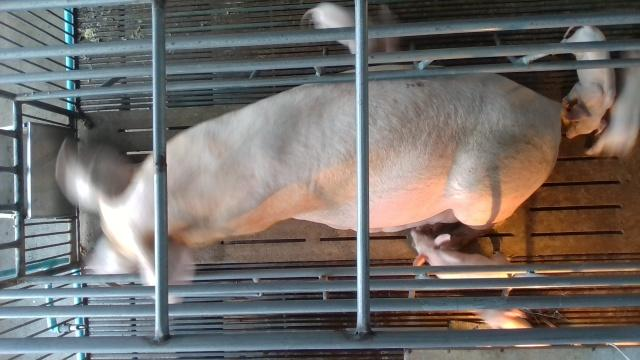piglet: (518, 23, 617, 140), (411, 226, 522, 280), (300, 4, 399, 55)
sow-sit: (57, 65, 561, 298)
